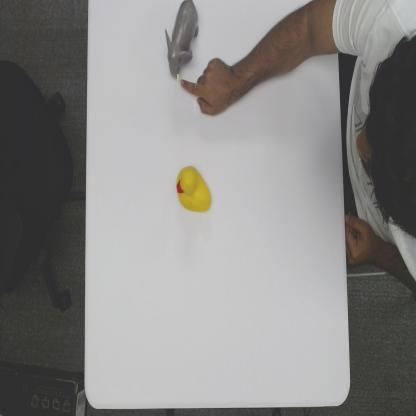Arm: (233, 0, 338, 99)
Duck: (176, 163, 213, 218)
Elephant: (165, 0, 199, 82)
Hand: (181, 58, 234, 121)
